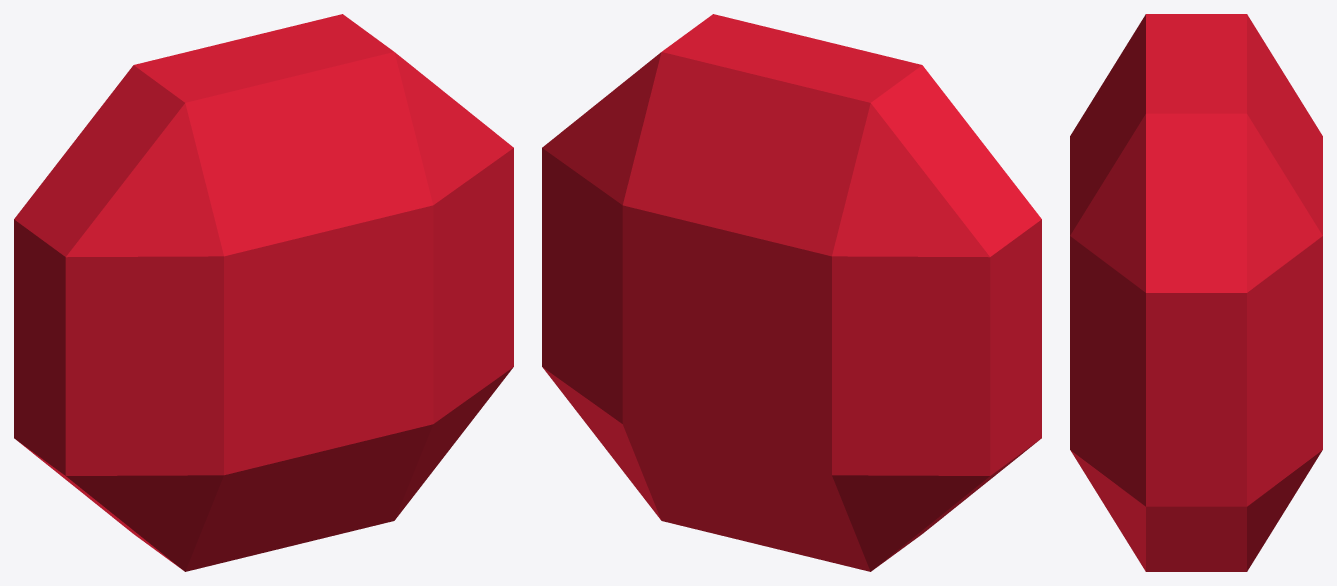
File: item_ruby.fbx
3 renders of one model, left to right at view 1: azimuth 30°, elevation 25°; view 2: azimuth 150°, elevation 25°; view 3: azimuth 270°, elevation 25°, orthographic. The views are drawn at different scales.
Parts seen in each view (by area): view 1: Body; view 2: Body; view 3: Body.
Boxes of the visible parts, x1,y1,x2,y2 form: Body: [14, 14, 513, 571]; Body: [542, 14, 1041, 571]; Body: [1070, 14, 1322, 571].
Bounding box in the file's own units: 200 × 200 × 100.
